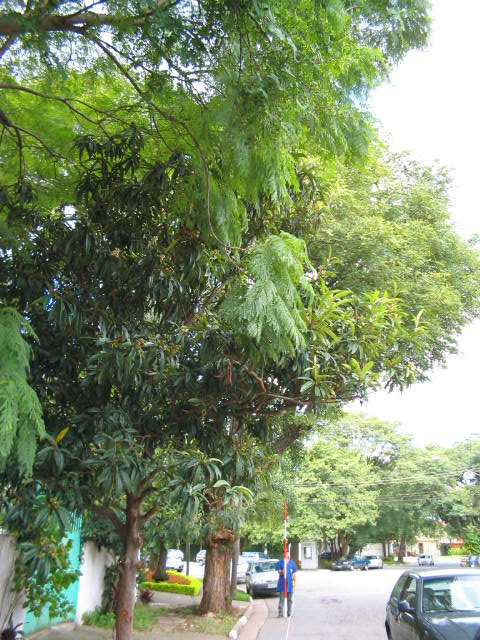stem: (98, 522, 158, 640), (188, 524, 247, 617)
stick: (277, 501, 292, 618)
